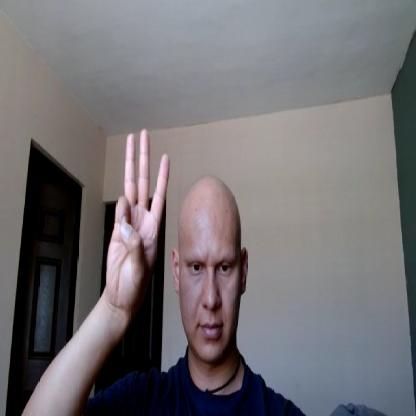W: (104, 129, 170, 300)
